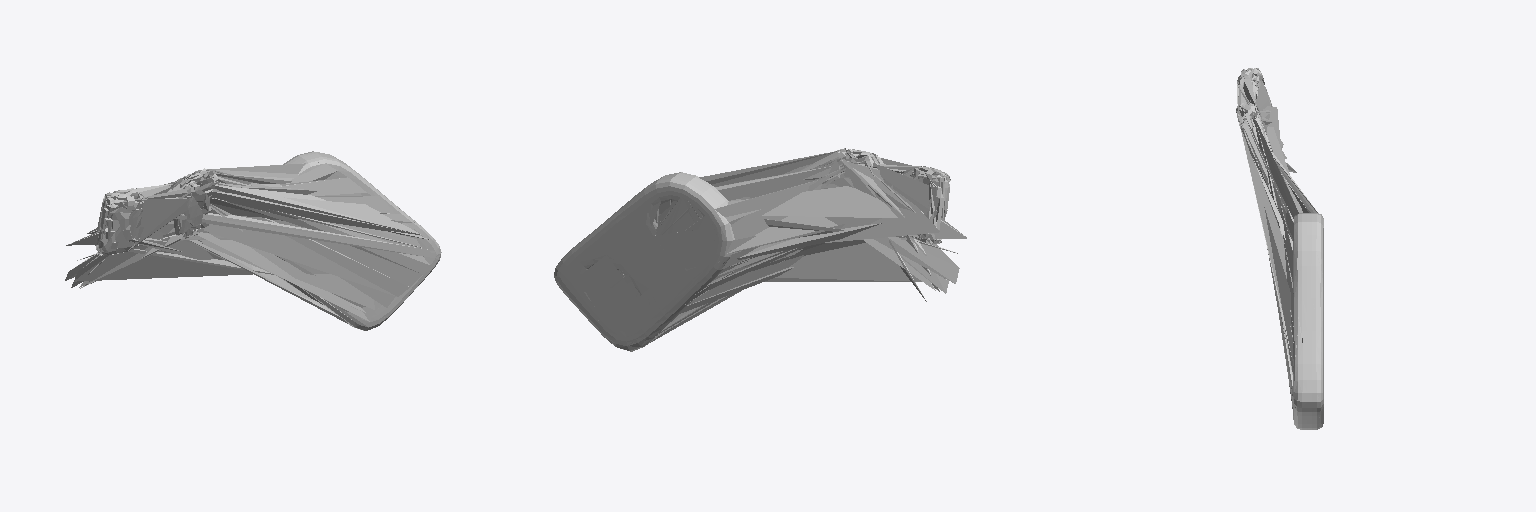
The model's file is clouse mouth.obj.
3 renders of one model, left to right at view 1: azimuth 30°, elevation 25°; view 2: azimuth 150°, elevation 25°; view 3: azimuth 270°, elevation 25°, orthographic.
Parts seen in each view (by area): view 1: Group13488, Group64639; view 2: Group13488, Group64639, Group29051, ZBrush_defualt_group; view 3: Group13488, Group64639.
Part boxes in pixels (bbox=[...]): Group13488: bbox=[65, 153, 434, 327]; Group64639: bbox=[283, 152, 441, 330]; Group13488: bbox=[562, 148, 966, 346]; Group64639: bbox=[554, 172, 733, 351]; Group29051: bbox=[584, 173, 727, 316]; ZBrush_defualt_group: bbox=[591, 174, 723, 307]; Group13488: bbox=[1236, 68, 1323, 427]; Group64639: bbox=[1293, 213, 1323, 429].
Bounding box in the file's own units: 16.06 × 8.78 × 3.13.